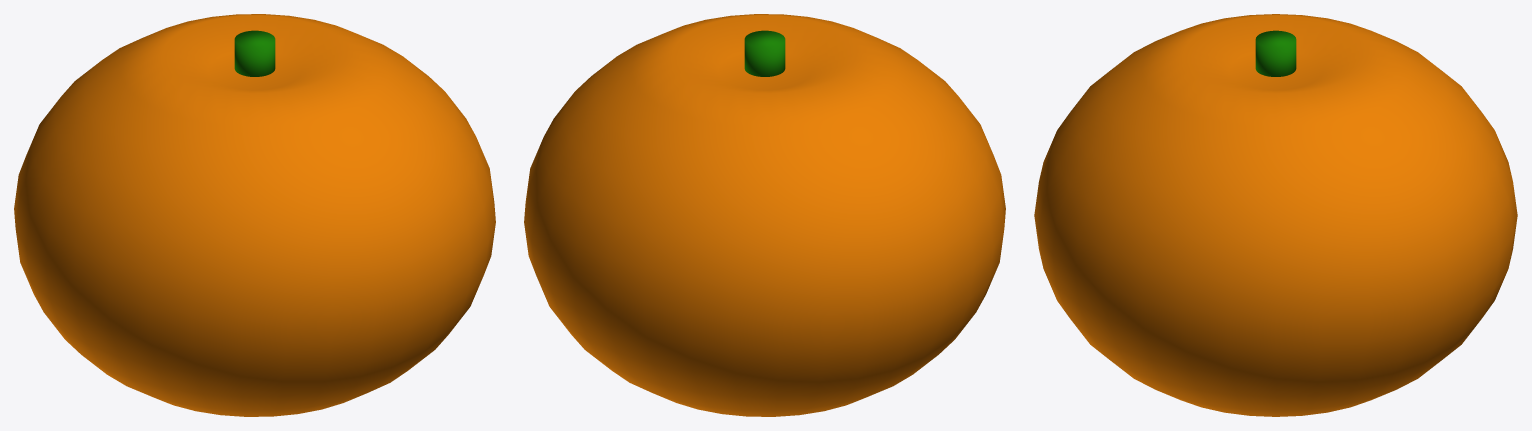
Rendered from Mikan.fbx.
3 renders of one model, left to right at view 1: azimuth 30°, elevation 25°; view 2: azimuth 150°, elevation 25°; view 3: azimuth 270°, elevation 25°, orthographic.
Parts seen in each view (by area): view 1: 球, 円柱; view 2: 球, 円柱; view 3: 球, 円柱.
Boxes of the visible parts, x1,y1,x2,y2 form: 球: (14,14,495,416); 円柱: (234,30,275,76); 球: (524,14,1005,416); 円柱: (744,30,785,76); 球: (1034,14,1517,416); 円柱: (1255,30,1296,76).
Size of the model in its own units: 251 by 201 by 251.
